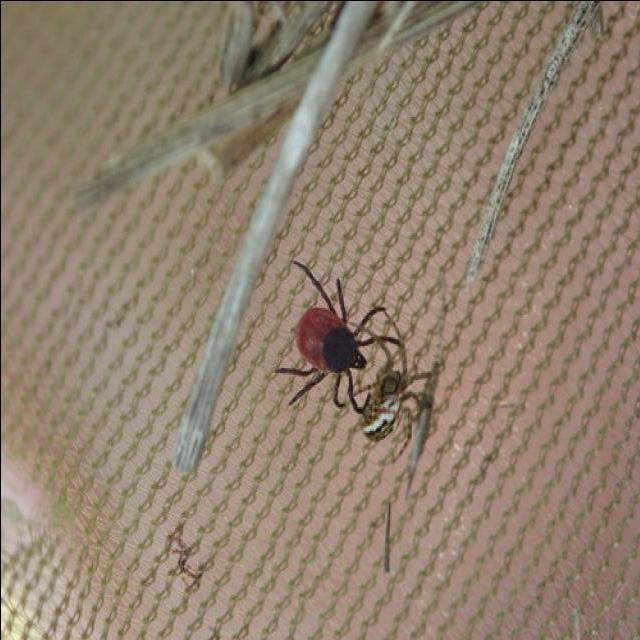Ixodes Ricinus-F: (274, 261, 388, 413)
